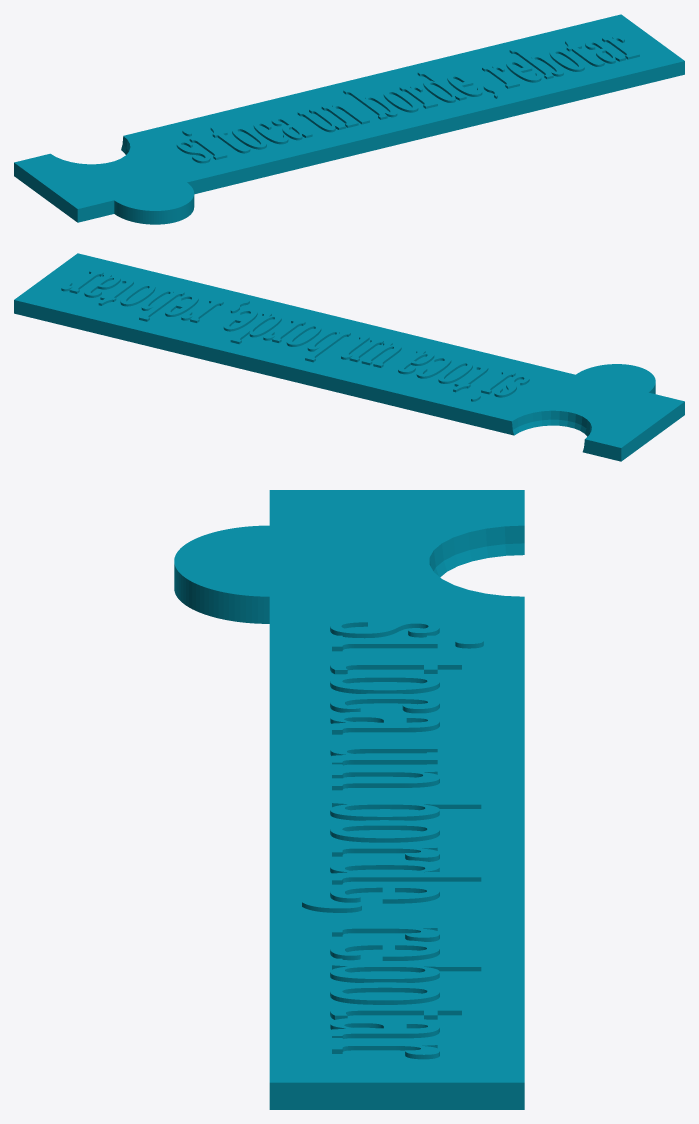
Rendered from Rebotar.gltf.
3 renders of one model, top to bottom at view 1: azimuth 30°, elevation 25°; view 2: azimuth 150°, elevation 25°; view 3: azimuth 270°, elevation 25°, orthographic. The views are drawn at different scales.
Parts seen in each view (by area): view 1: Mesh_Mesh_head_geo.001_lambert2SG.001; view 2: Mesh_Mesh_head_geo.001_lambert2SG.001; view 3: Mesh_Mesh_head_geo.001_lambert2SG.001.
Part boxes in pixels (x1,y1,x2,y2): Mesh_Mesh_head_geo.001_lambert2SG.001: (14, 14, 684, 224); Mesh_Mesh_head_geo.001_lambert2SG.001: (14, 253, 684, 461); Mesh_Mesh_head_geo.001_lambert2SG.001: (174, 490, 524, 1109).
Bounding box in the file's own units: 0.8 × 0.02 × 0.2.
